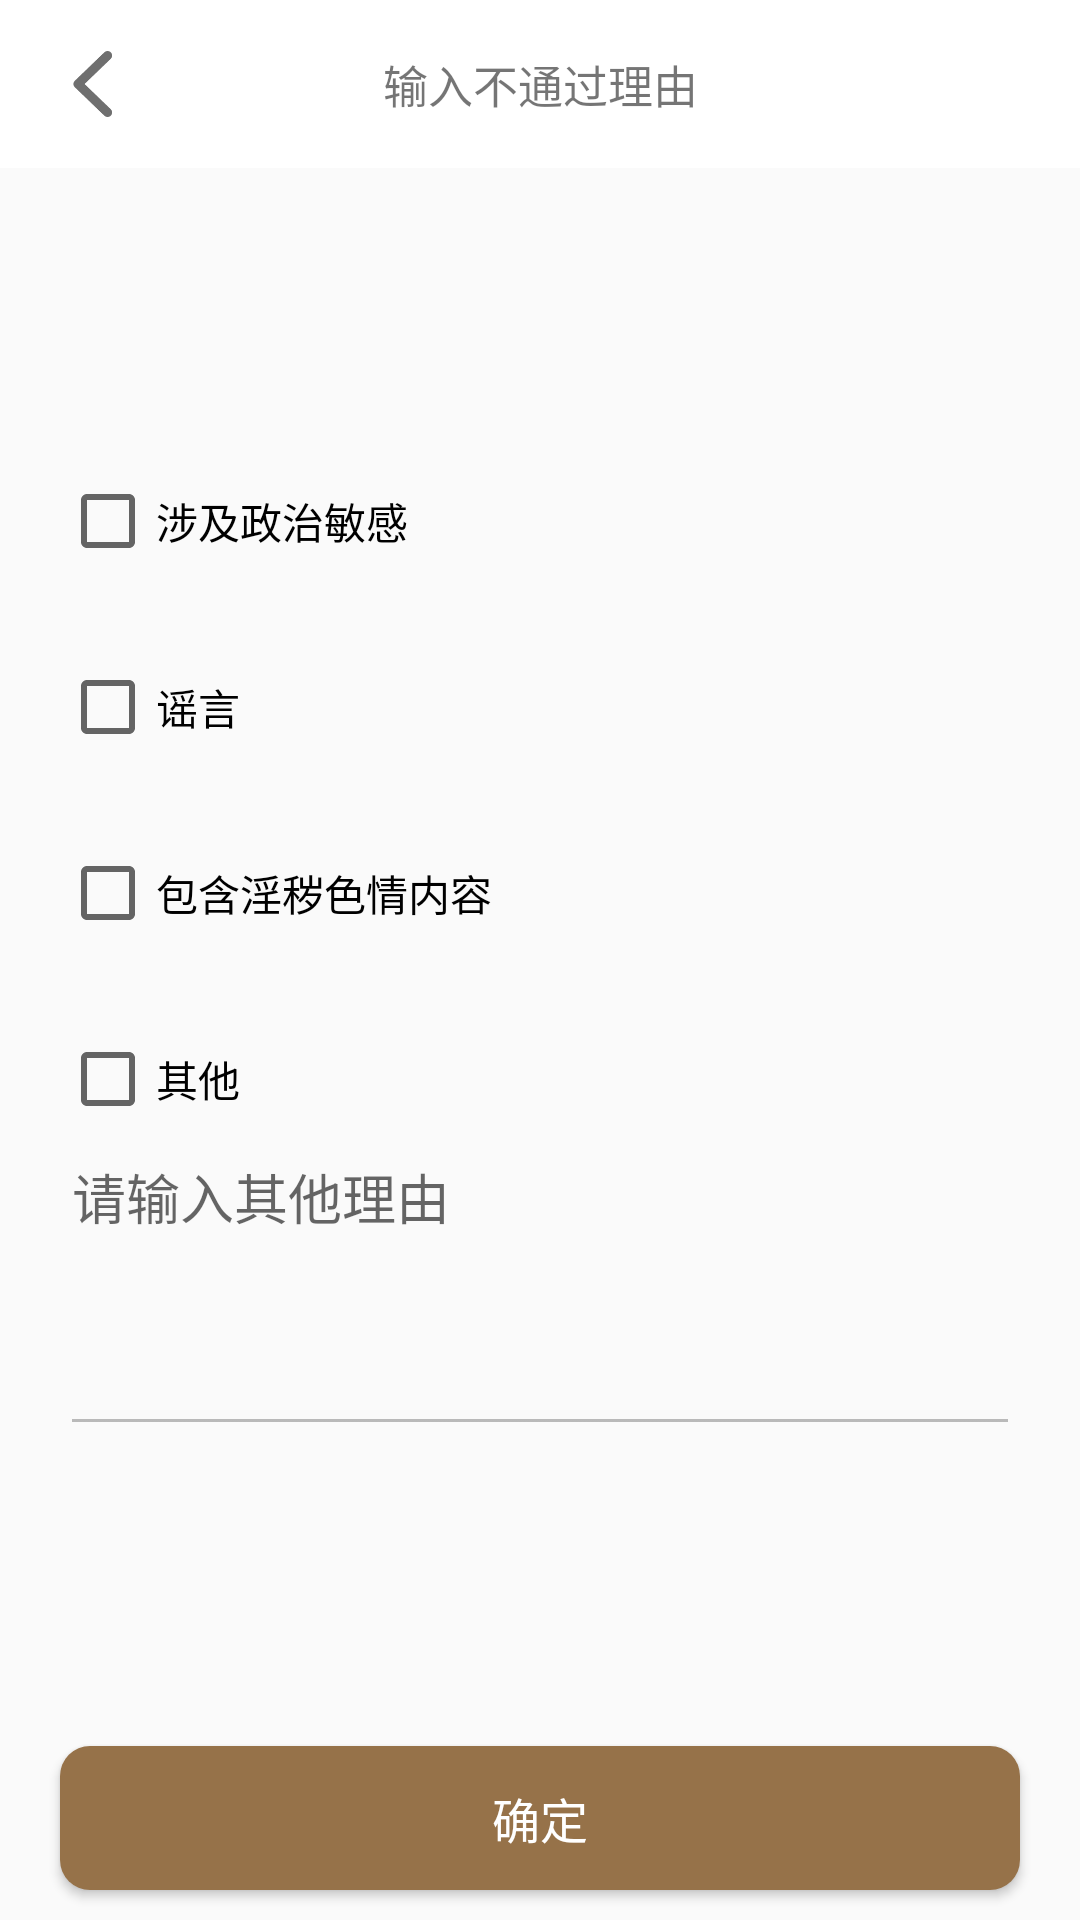

Where to tap for icons on this 1080×1920 app screen, as [x,y]:
back: [92,84]
